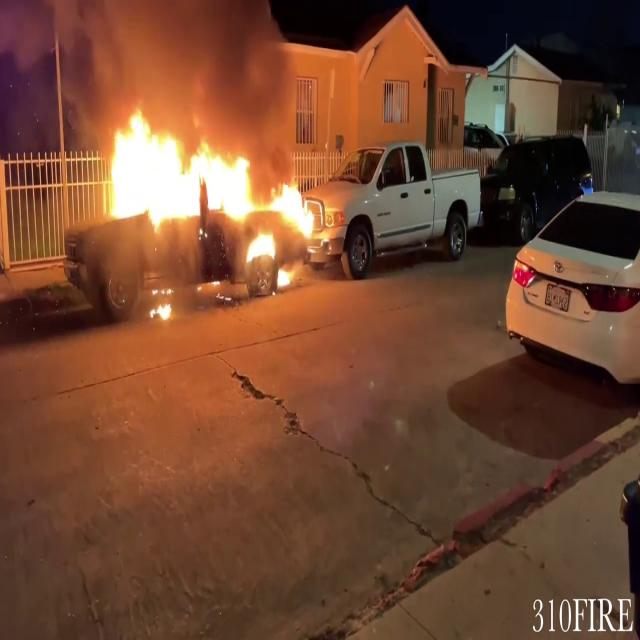Fire: (99, 102, 325, 264), (148, 289, 176, 323)
Smoke: (62, 0, 301, 149)
